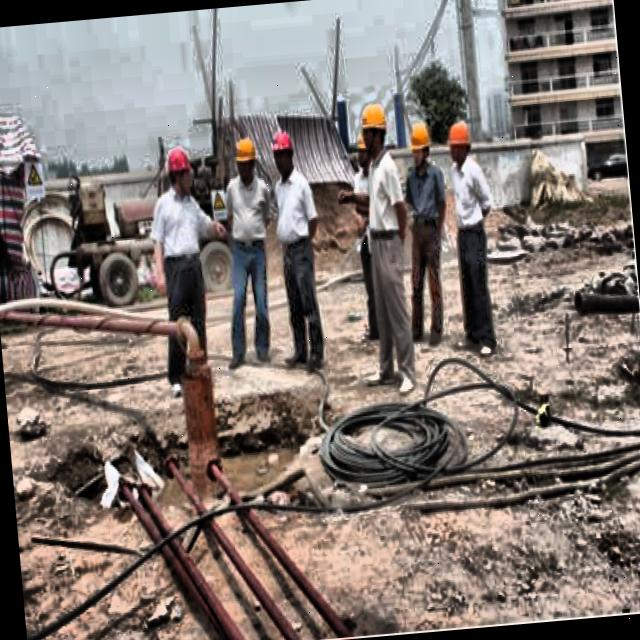helmet: (358, 95, 390, 161), (444, 113, 476, 167), (163, 141, 194, 195), (229, 130, 260, 182), (268, 126, 298, 178), (405, 116, 434, 168)
